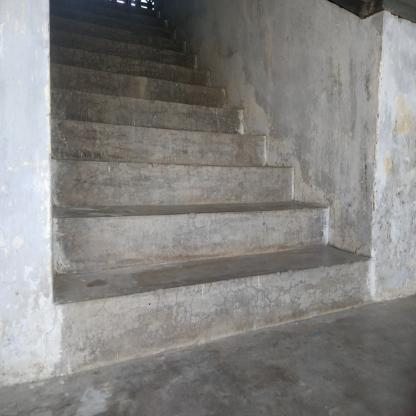stairs: (54, 91, 225, 369)
